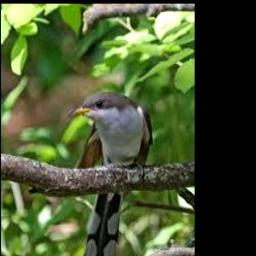Cuckoo: (68, 89, 151, 256)
